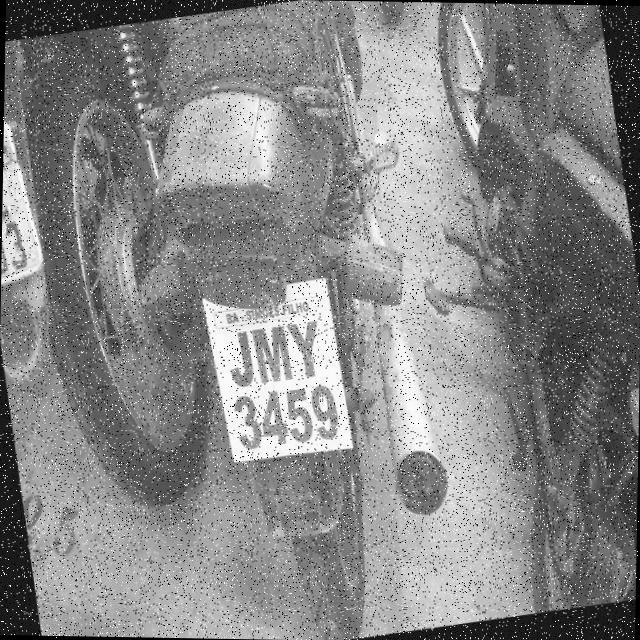numeros: (250, 324, 294, 386), (284, 318, 326, 382), (230, 392, 266, 453), (256, 389, 291, 449), (308, 382, 342, 442), (224, 328, 257, 389), (282, 386, 315, 446)
